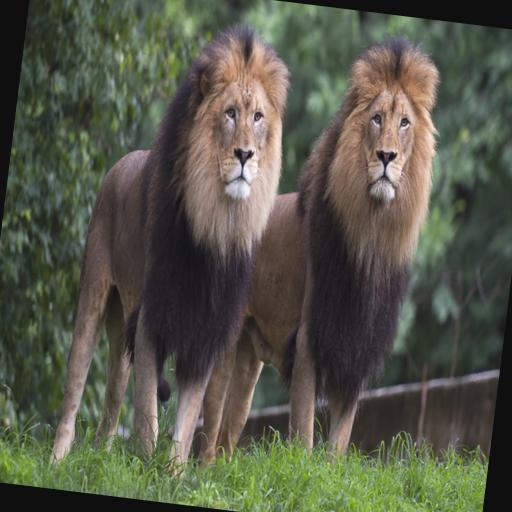lions: (3, 0, 474, 497)
